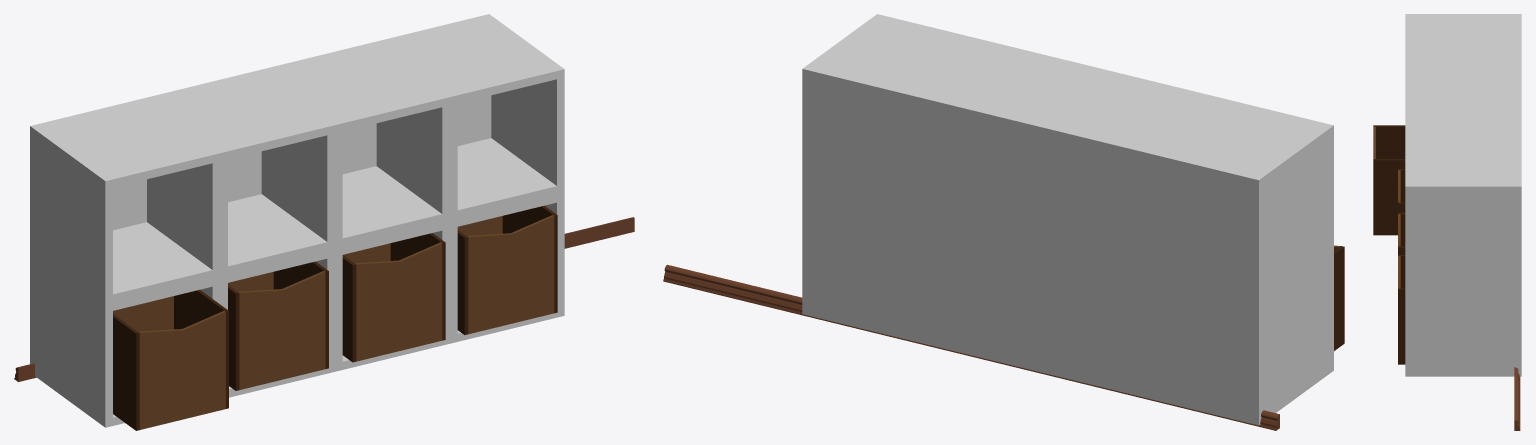
Rendered from cubbies.fbx.
The picture shows the model from 3 angles, left to right: view 1: azimuth 30°, elevation 25°; view 2: azimuth 150°, elevation 25°; view 3: azimuth 270°, elevation 25°; orthographic projection. The views are drawn at different scales.
Visible parts, largest first — view 1: cubbyBig, cubby3, cubby1, cubby, cubby2, pCube14; view 2: cubbyBig, pCube14, cubby3; view 3: cubbyBig, cubby3, cubby, pCube14, cubby2, cubby1.
Boxes of the visible parts, bbox=[...] form: cubbyBig: bbox=[30, 14, 564, 427]; cubby3: bbox=[113, 289, 228, 430]; cubby1: bbox=[342, 233, 445, 362]; cubby: bbox=[457, 205, 557, 334]; cubby2: bbox=[228, 261, 328, 390]; pCube14: bbox=[14, 217, 634, 381]; cubbyBig: bbox=[802, 14, 1333, 425]; pCube14: bbox=[663, 264, 1279, 430]; cubby3: bbox=[1334, 245, 1344, 350]; cubbyBig: bbox=[1405, 14, 1521, 376]; cubby3: bbox=[1373, 125, 1405, 235]; cubby: bbox=[1398, 255, 1405, 364]; pCube14: bbox=[1514, 367, 1520, 430]; cubby2: bbox=[1398, 169, 1405, 212]; cubby1: bbox=[1398, 212, 1405, 254].
Size of the model in its own units: 6.98 by 2.69 by 1.89.
3 materials, 1 textured.
